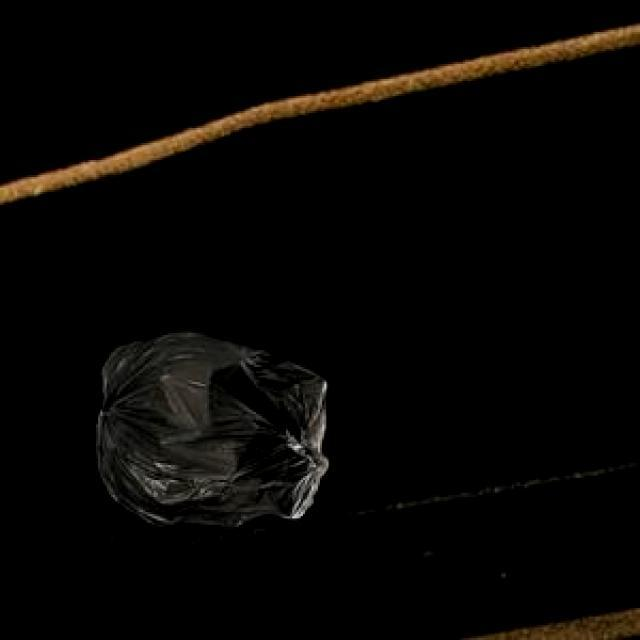Trashbag: (83, 320, 343, 532)
